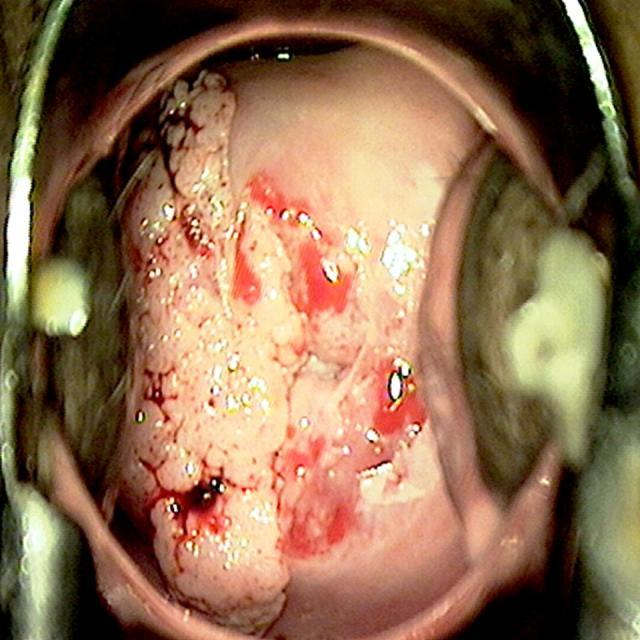cervical_lesion: (103, 68, 443, 628)
